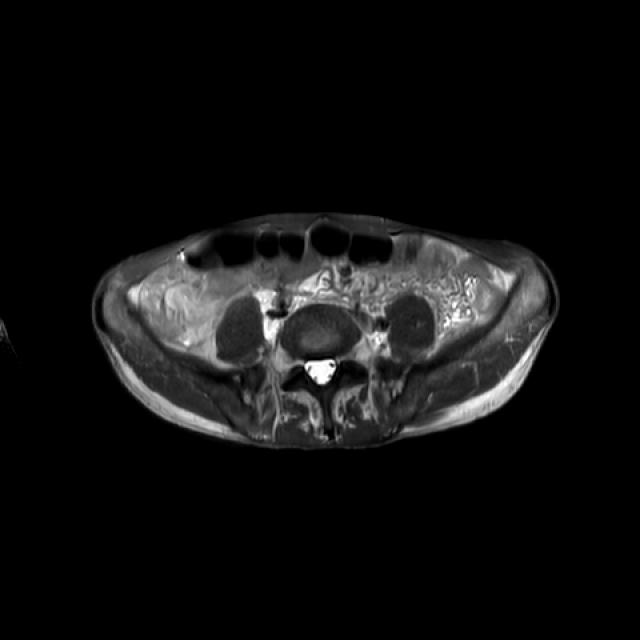sag: (181, 336, 193, 348)
